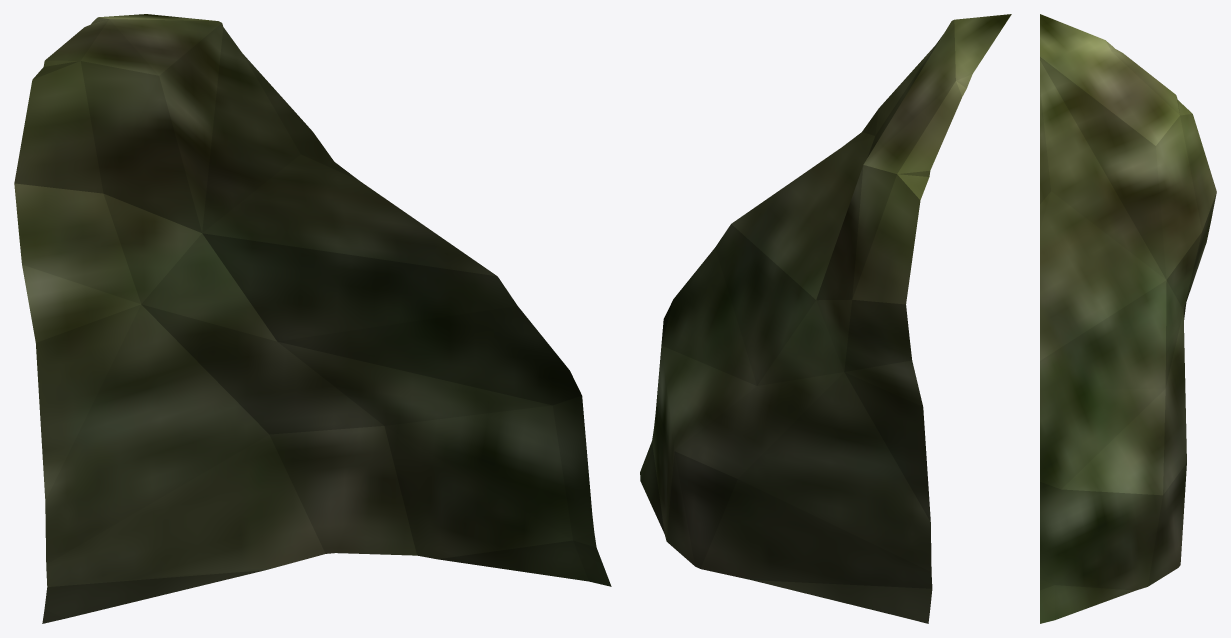
3 renders of one model, left to right at view 1: azimuth 30°, elevation 25°; view 2: azimuth 150°, elevation 25°; view 3: azimuth 270°, elevation 25°, orthographic. The views are drawn at different scales.
Size of the model in its own units: 0.2706 by 0.3817 by 0.1334.
Materials: 1 (1 with a texture image).
